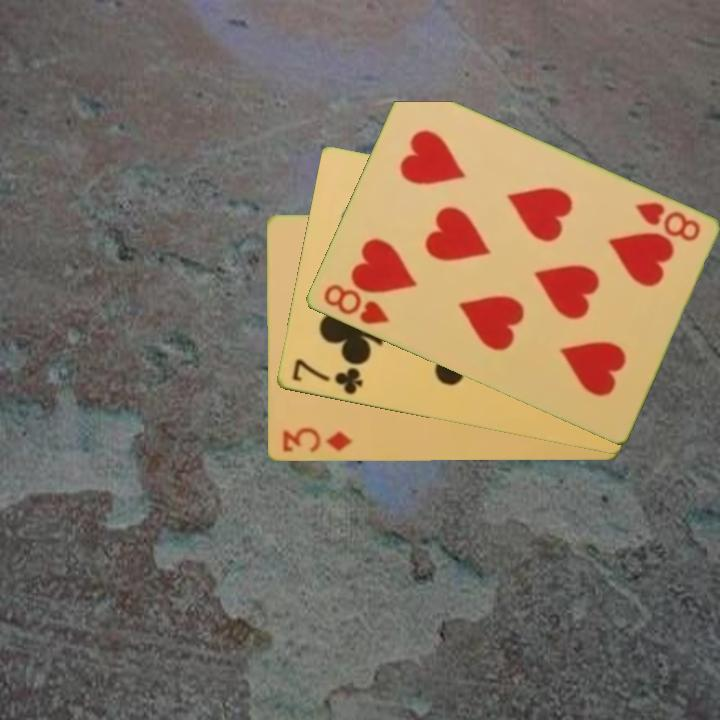3d: (279, 424, 354, 456)
7c: (288, 355, 365, 398)
8h: (319, 280, 392, 328), (631, 198, 703, 245)
